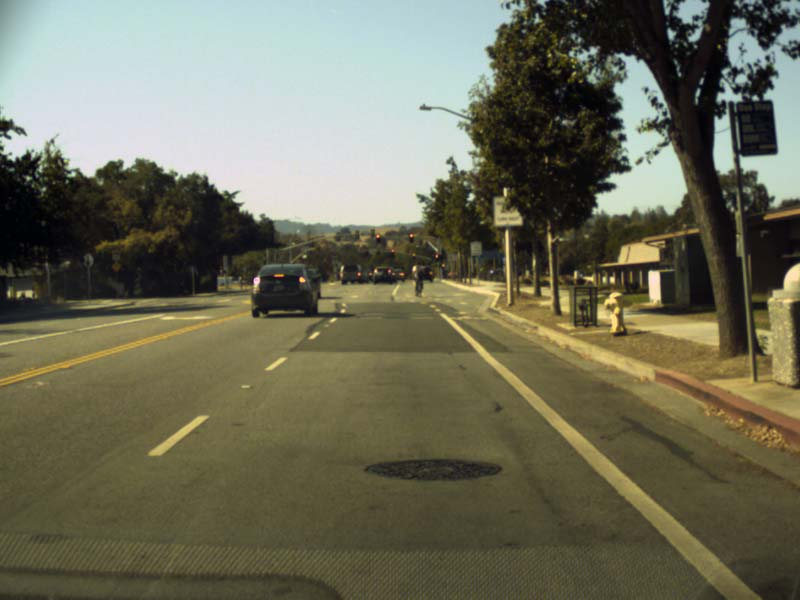Red: (408, 232, 414, 243), (376, 234, 380, 243), (434, 254, 438, 261), (391, 248, 394, 257)
Yellow: (411, 252, 416, 259)
